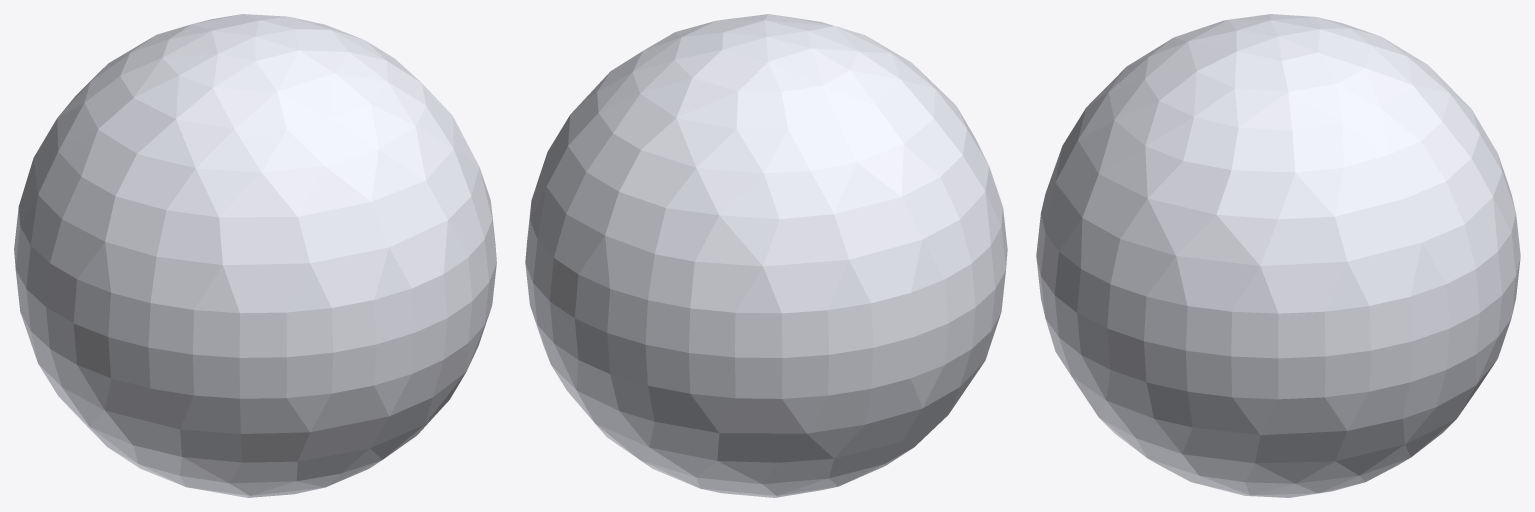
File: Aura_Heart.fbx
The picture shows the model from 3 angles, left to right: view 1: azimuth 30°, elevation 25°; view 2: azimuth 150°, elevation 25°; view 3: azimuth 270°, elevation 25°; orthographic projection.
Parts seen in each view (by area): view 1: Sphere.008; view 2: Sphere.008; view 3: Sphere.008.
Boxes of the visible parts, x1,y1,x2,y2 form: Sphere.008: (14,14,496,497); Sphere.008: (525,14,1007,497); Sphere.008: (1036,14,1520,497).
Bounding box in the file's own units: 102 × 102 × 102.
